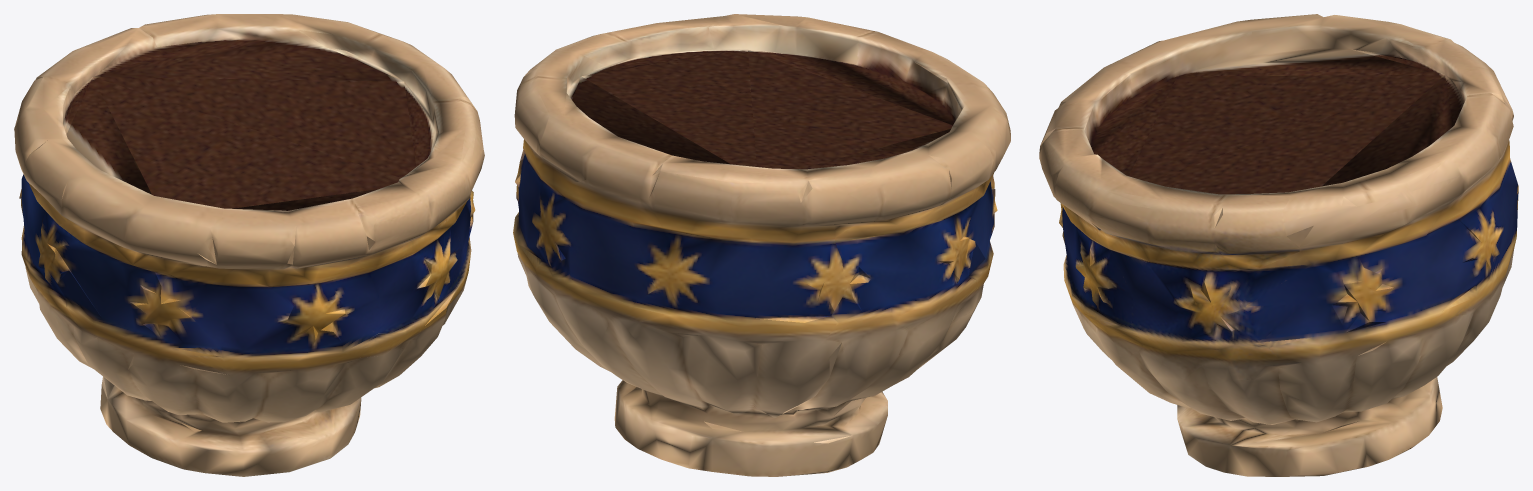
File: planter-bowl.glb
The picture shows the model from 3 angles, left to right: view 1: azimuth 30°, elevation 25°; view 2: azimuth 150°, elevation 25°; view 3: azimuth 270°, elevation 25°; orthographic projection. The views are drawn at different scales.
Visible parts, largest first — view 1: planter-bowl; view 2: planter-bowl; view 3: planter-bowl.
Boxes of the visible parts, bbox=[...] form: planter-bowl: bbox=[14, 14, 484, 476]; planter-bowl: bbox=[513, 14, 1010, 476]; planter-bowl: bbox=[1039, 14, 1518, 476].
Bounding box in the file's own units: 1.19 × 0.9167 × 1.17.
Materials: 1 (1 with a texture image).
